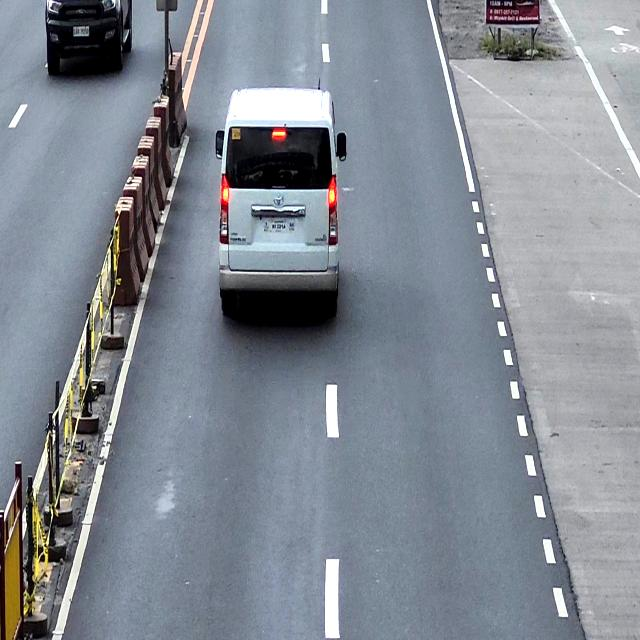Car: (214, 86, 347, 320), (44, 0, 133, 71)
License-Plate: (267, 218, 291, 234), (72, 26, 90, 36)
